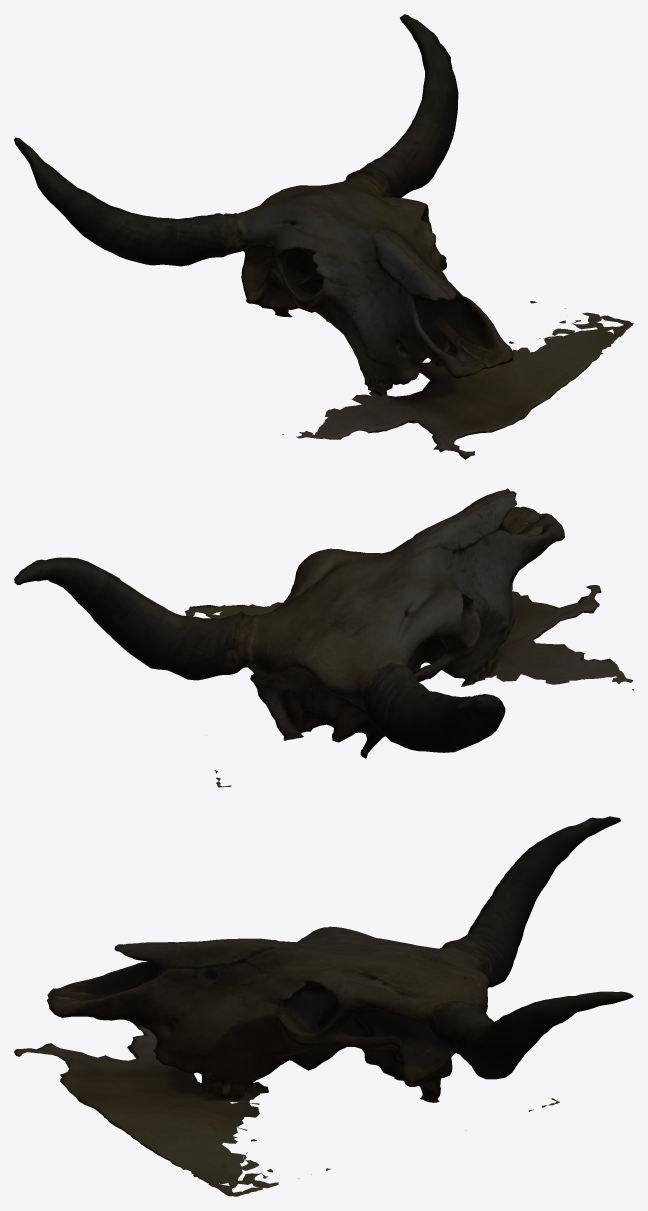
Rendered from model_obj-Seraja.glb.
The picture shows the model from 3 angles, top to bottom: view 1: azimuth 30°, elevation 25°; view 2: azimuth 150°, elevation 25°; view 3: azimuth 270°, elevation 25°; orthographic projection. The views are drawn at different scales.
Parts seen in each view (by area): view 1: Node1; view 2: Node1; view 3: Node1.
Part boxes in pixels (<box>): Node1: <box>14,14,633,459</box>; Node1: <box>14,488,633,787</box>; Node1: <box>14,816,633,1196</box>.
Bounding box in the file's own units: 0.692 × 0.2704 × 0.8158.
Materials: 1 (1 with a texture image).
